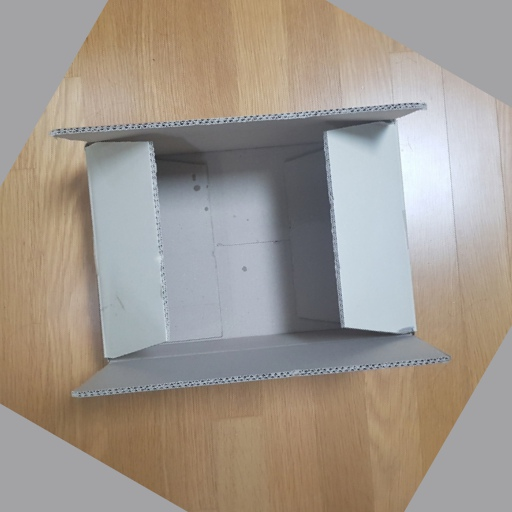Paper_0: (47, 98, 455, 405)
